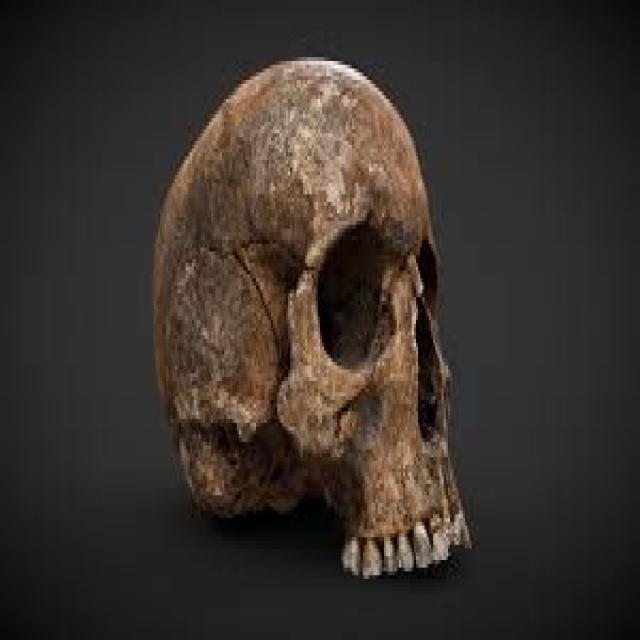skull: (142, 44, 486, 586)
